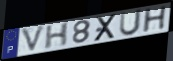8: (71, 19, 92, 45)
H: (43, 21, 71, 51), (141, 4, 169, 34)
U: (118, 8, 144, 37)
V: (20, 23, 47, 54)
X: (92, 12, 119, 43)
